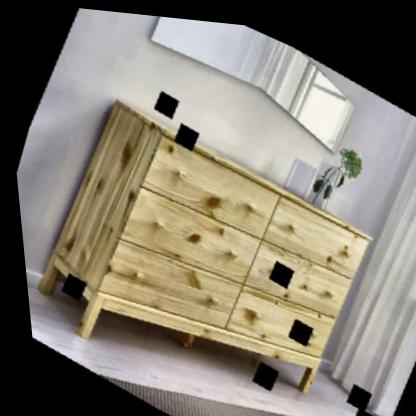Sideboard: (31, 98, 365, 387)
